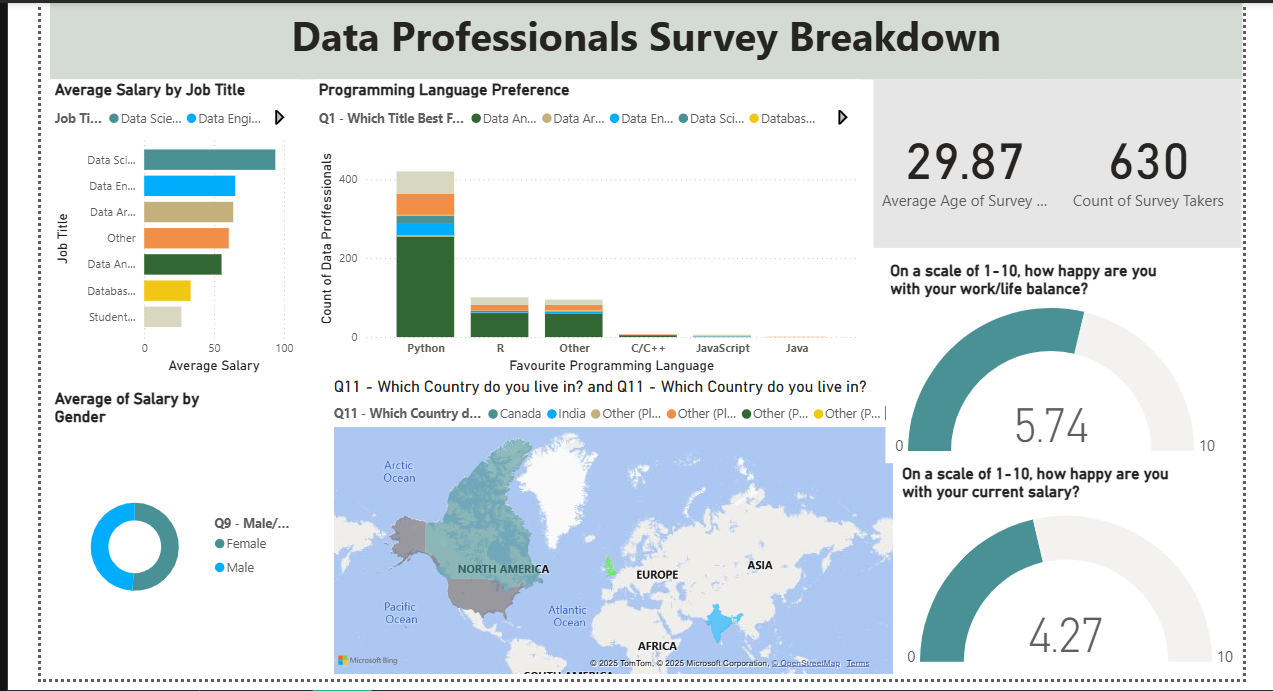

The dashboard page shown, as its layout file describes it:
{"tool":"powerbi","page":{"name":"Page 1","canvas":[1280,720],"ordinal":0},"visuals":[{"type":"textbox","box":[10,0,280,280],"z":0},{"type":"textbox","box":[9.4,0,1254.8,111.5],"z":1},{"type":"card","fields":{"Values":["Count(Data Professional Survey.Unique ID)"]},"box":[9.4,126.6,179.5,153.1],"z":2},{"type":"card","fields":{"Values":["Avg(Data Professional Survey.Q10 - Current Age)"]},"box":[194.6,126.6,185.2,153.1],"z":3},{"type":"barChart","title":"What Do Data Roles Earn on Average?","fields":{"Category":["Data Professional Survey.Q1 - Which Title Best Fits your Current Role?.1"],"Y":["Avg(Data Professional Survey.Average Salary)"],"Series":["Data Professional Survey.Q1 - Which Title Best Fits your Current Role?.1"]},"box":[400.6,126.6,438.4,355.3],"z":4},{"type":"clusteredColumnChart","title":"What Are the Most Popular Programming Languages?","fields":{"Category":["Data Professional Survey.Q5 - Favorite Programming Language.1"],"Y":["CountNonNull(Data Professional Survey.Unique ID)"]},"box":[856.1,126.6,408.2,355.3],"z":5},{"type":"filledMap","title":"Geographical Distribution of Respondents","fields":{"Category":["Data Professional Survey.Q11 - Which Country do you live in?.1"]},"box":[9.4,304.3,370.4,402.5],"z":6},{"type":"gauge","title":"Salary Satisfaction (1-10)","fields":{"Y":["Avg(Data Professional Survey.Q6 - How Happy are you in your Current Position with the following? (Salary))"],"MinValue":["Min(Data Professional Survey.Q6 - How Happy are you in your Current Position with the following? (Salary))"],"MaxValue":["Max(Data Professional Survey.Q6 - How Happy are you in your Current Position with the following? (Salary))"]},"box":[400.6,506.5,438.4,200.3],"z":7},{"type":"gauge","title":"Work/Life Satisfaction (1-10)","fields":{"Y":["Avg(Data Professional Survey.Q6 - How Happy are you in your Current Position with the following? (Work/Life Balance))"],"MinValue":["Min(Data Professional Survey.Q6 - How Happy are you in your Current Position with the following? (Work/Life Balance))"],"MaxValue":["Max(Data Professional Survey.Q6 - How Happy are you in your Current Position with the following? (Work/Life Balance))1"]},"box":[856,506,408,200],"z":8}]}

Visuals, with their boxes on the page's 1280x720 design canvas (x1, y1, x2, y2). These are canvas units, not pixel positions in the 1273x691 screenshot, which may show the page scaled, cropped or inside an application window:
textbox: bbox=(10, 0, 290, 280)
textbox: bbox=(9, 0, 1264, 112)
card - Count(Data Professional Survey.Unique ID): bbox=(9, 127, 189, 280)
card - Avg(Data Professional Survey.Q10 - Current Age): bbox=(195, 127, 380, 280)
"What Do Data Roles Earn on Average?" barChart: bbox=(401, 127, 839, 482)
"What Are the Most Popular Programming Languages?" clusteredColumnChart: bbox=(856, 127, 1264, 482)
"Geographical Distribution of Respondents" filledMap: bbox=(9, 304, 380, 707)
"Salary Satisfaction (1-10)" gauge: bbox=(401, 506, 839, 707)
"Work/Life Satisfaction (1-10)" gauge: bbox=(856, 506, 1264, 706)
